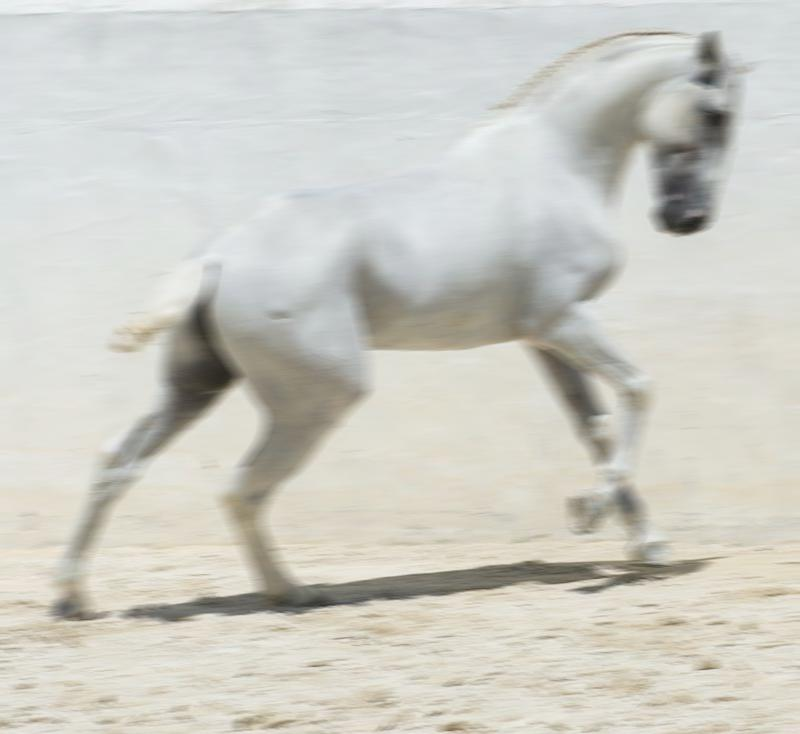horse: (48, 25, 765, 621)
